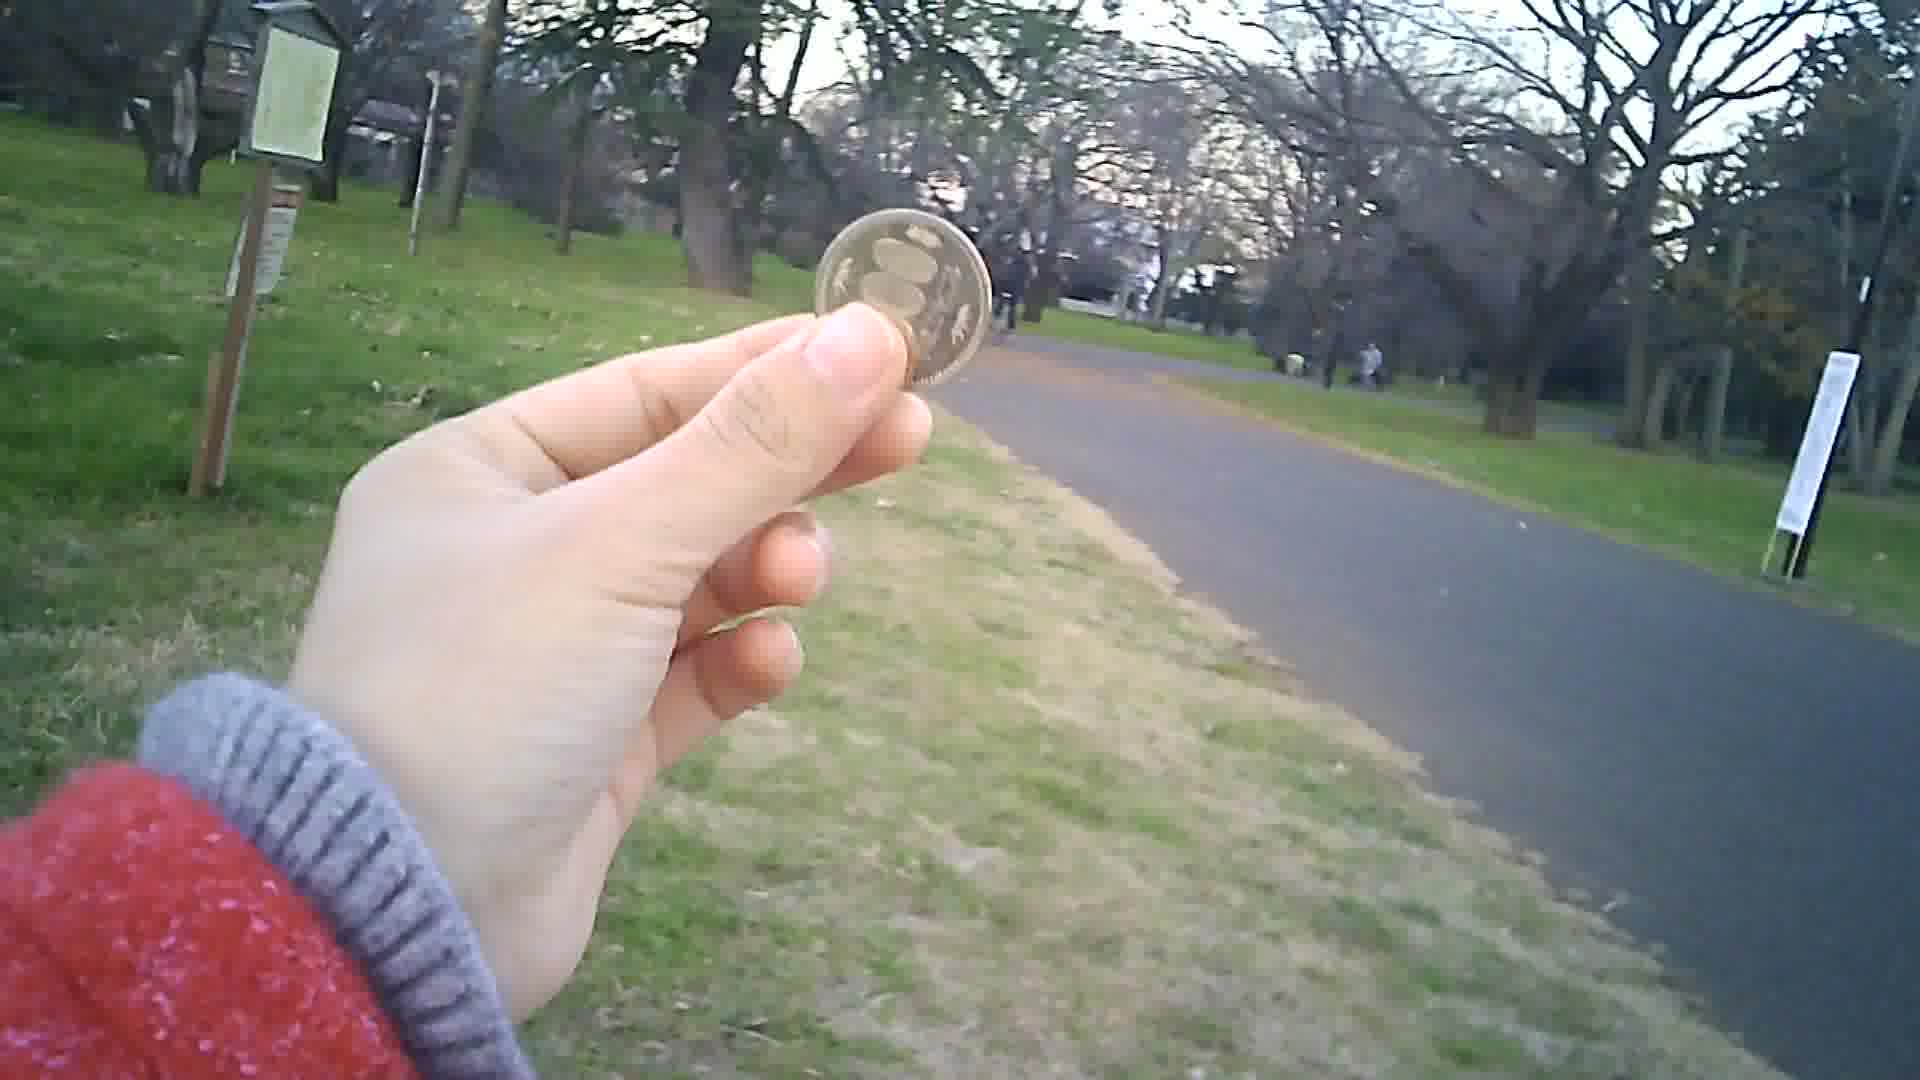500 Yen: (811, 211, 993, 394)
